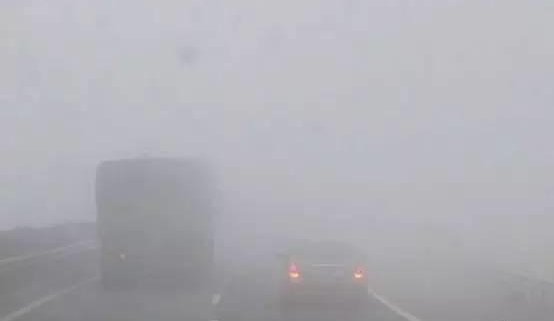bus: (91, 150, 224, 289)
car: (277, 232, 367, 305)
